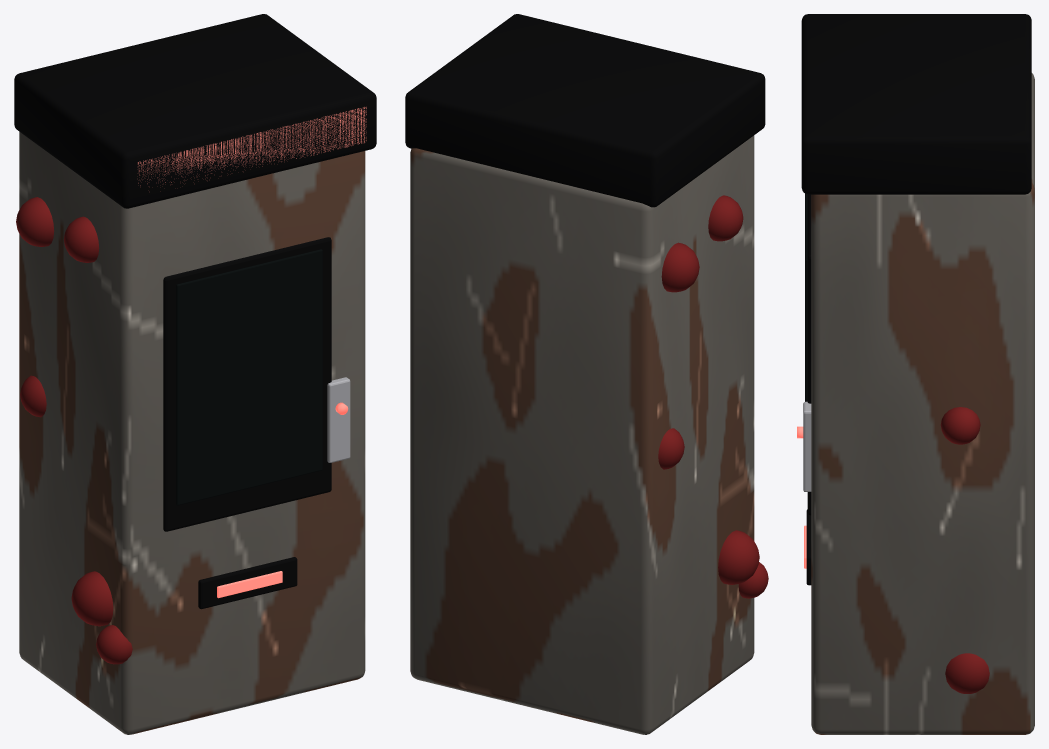
The model's file is perk-machine.glb.
The picture shows the model from 3 angles, left to right: view 1: azimuth 30°, elevation 25°; view 2: azimuth 150°, elevation 25°; view 3: azimuth 270°, elevation 25°; orthographic projection. The views are drawn at different scales.
Visible parts, largest first — view 1: Cube, Cube.002, PerkWindow, Cube.001, PerkSign, Cube.003, Cube.005, Sphere.003, Sphere.005, Sphere, Sphere.006, Cube.004 (+1 smaller); view 2: Cube, Cube.002, Sphere.003, Sphere.005, Sphere, Sphere.002, Sphere.006; view 3: Cube, Cube.002, Sphere.004, Sphere.001, Cube.001, Cube.005, PerkWindow, Cube.003.
Part boxes in pixels (box(x1,y1,x2,y2)): Cube: box(19, 132, 365, 734); Cube.002: box(14, 14, 376, 208); PerkWindow: box(176, 249, 322, 505); Cube.001: box(163, 237, 331, 531); PerkSign: box(138, 107, 366, 185); Cube.003: box(198, 557, 297, 609); Cube.005: box(327, 377, 350, 462); Sphere.003: box(71, 571, 113, 626); Sphere.005: box(16, 197, 54, 246); Sphere: box(63, 216, 99, 262); Sphere.006: box(96, 625, 132, 664); Cube.004: box(217, 571, 282, 598); Cube: box(410, 135, 754, 734); Cube.002: box(405, 14, 765, 207); Sphere.003: box(718, 530, 759, 584); Sphere.005: box(661, 242, 699, 292); Sphere: box(708, 195, 743, 241); Sphere.002: box(658, 428, 684, 469); Sphere.006: box(738, 562, 768, 598); Cube: box(811, 73, 1034, 734); Cube.002: box(801, 14, 1031, 194); Sphere.004: box(945, 653, 989, 693); Sphere.001: box(940, 407, 980, 444); Cube.001: box(807, 194, 811, 515); Cube.005: box(803, 401, 811, 491); PerkWindow: box(805, 193, 807, 401); Cube.003: box(806, 509, 811, 585).
Size of the model in its own units: 1.05 by 2.08 by 0.745.
Materials: 6 (1 with a texture image).
